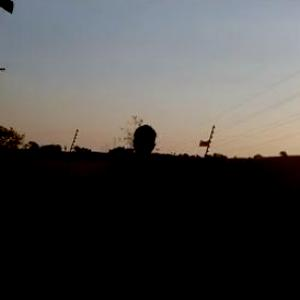follow: (96, 118, 170, 299)
